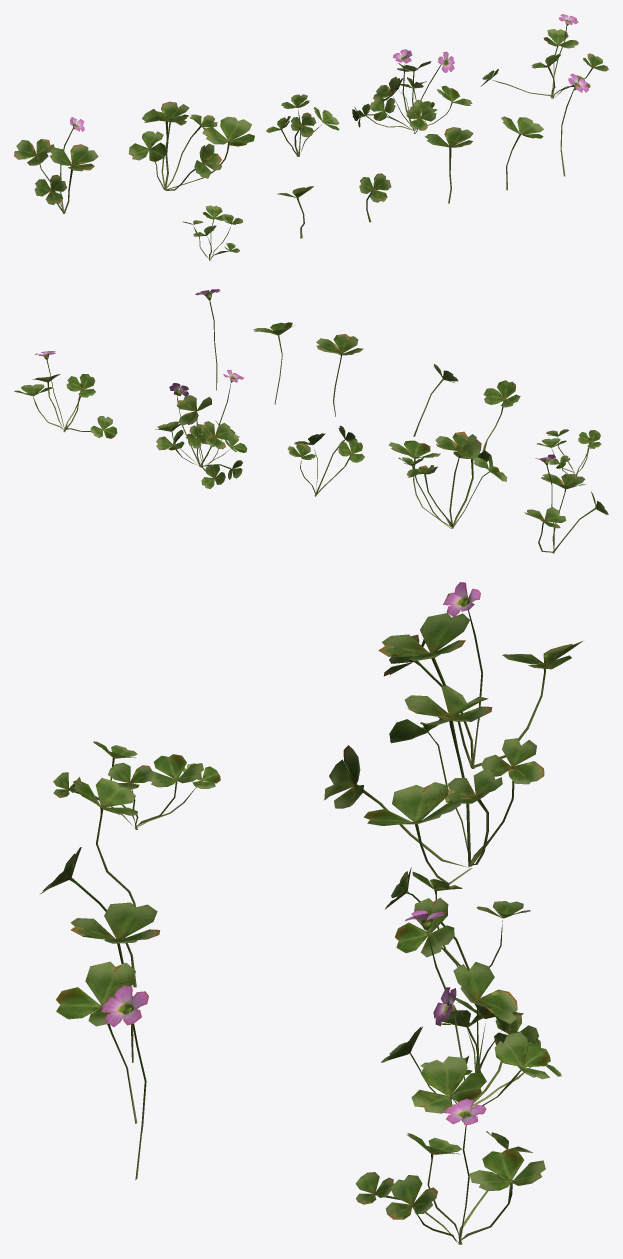
Rendered from shrub_sorrel_01.glb.
3 views of the same model, one above another, from view 1: azimuth 30°, elevation 25°; view 2: azimuth 150°, elevation 25°; view 3: azimuth 270°, elevation 25° (orthographic). The views are drawn at different scales.
Parts seen in each view (by area): view 1: shrub_sorrel_01_b, shrub_sorrel_01_d, shrub_sorrel_01_a, shrub_sorrel_01_e, shrub_sorrel_01_c, shrub_sorrel_01_f, shrub_sorrel_01_i, shrub_sorrel_01_j, shrub_sorrel_01_h, shrub_sorrel_01_k; view 2: shrub_sorrel_01_d, shrub_sorrel_01_b, shrub_sorrel_01_e, shrub_sorrel_01_a, shrub_sorrel_01_c, shrub_sorrel_01_f, shrub_sorrel_01_i, shrub_sorrel_01_g, shrub_sorrel_01_j; view 3: shrub_sorrel_01_b, shrub_sorrel_01_d, shrub_sorrel_01_e, shrub_sorrel_01_a, shrub_sorrel_01_f, shrub_sorrel_01_c, shrub_sorrel_01_j, shrub_sorrel_01_i, shrub_sorrel_01_k, shrub_sorrel_01_g.
Part boxes in pixels (x1=…): shrub_sorrel_01_b: x1=128, y1=101, x2=254, y2=190; shrub_sorrel_01_d: x1=352, y1=49, x2=472, y2=133; shrub_sorrel_01_a: x1=14, y1=117, x2=98, y2=213; shrub_sorrel_01_e: x1=480, y1=14, x2=608, y2=98; shrub_sorrel_01_c: x1=266, y1=94, x2=339, y2=156; shrub_sorrel_01_f: x1=182, y1=205, x2=242, y2=260; shrub_sorrel_01_i: x1=425, y1=127, x2=473, y2=203; shrub_sorrel_01_j: x1=501, y1=116, x2=543, y2=190; shrub_sorrel_01_h: x1=359, y1=173, x2=391, y2=222; shrub_sorrel_01_k: x1=560, y1=73, x2=588, y2=176; shrub_sorrel_01_d: x1=155, y1=369, x2=247, y2=489; shrub_sorrel_01_b: x1=388, y1=431, x2=507, y2=528; shrub_sorrel_01_e: x1=14, y1=351, x2=117, y2=438; shrub_sorrel_01_a: x1=524, y1=454, x2=608, y2=553; shrub_sorrel_01_c: x1=287, y1=425, x2=364, y2=496; shrub_sorrel_01_f: x1=537, y1=429, x2=601, y2=475; shrub_sorrel_01_i: x1=316, y1=334, x2=363, y2=416; shrub_sorrel_01_g: x1=482, y1=380, x2=520, y2=451; shrub_sorrel_01_j: x1=253, y1=322, x2=294, y2=404; shrub_sorrel_01_b: x1=324, y1=685, x2=544, y2=884; shrub_sorrel_01_d: x1=381, y1=910, x2=561, y2=1113; shrub_sorrel_01_e: x1=355, y1=1098, x2=545, y2=1244; shrub_sorrel_01_a: x1=378, y1=582, x2=582, y2=768; shrub_sorrel_01_f: x1=53, y1=741, x2=220, y2=829; shrub_sorrel_01_c: x1=385, y1=867, x2=530, y2=970; shrub_sorrel_01_j: x1=56, y1=961, x2=137, y2=1123; shrub_sorrel_01_i: x1=70, y1=902, x2=160, y2=1062; shrub_sorrel_01_k: x1=100, y1=985, x2=148, y2=1179; shrub_sorrel_01_g: x1=73, y1=778, x2=137, y2=906.
Size of the model in its own units: 0.3521 by 0.058 by 0.1464.
1 material, 1 textured.
